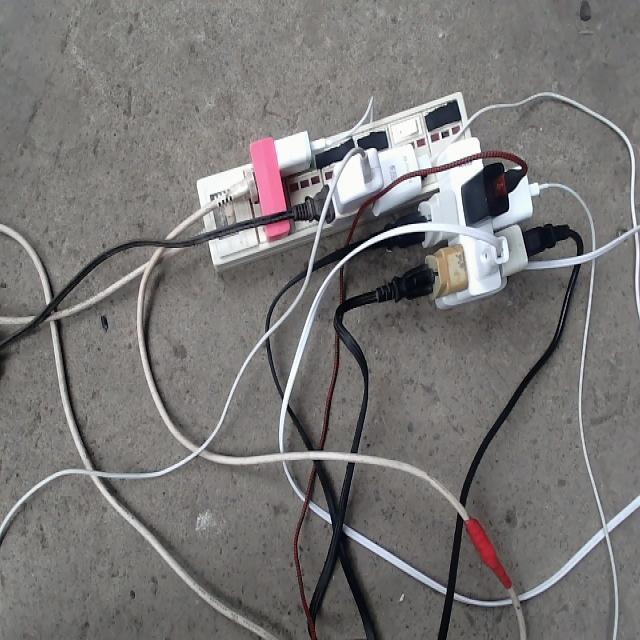-: (194, 89, 570, 307)
